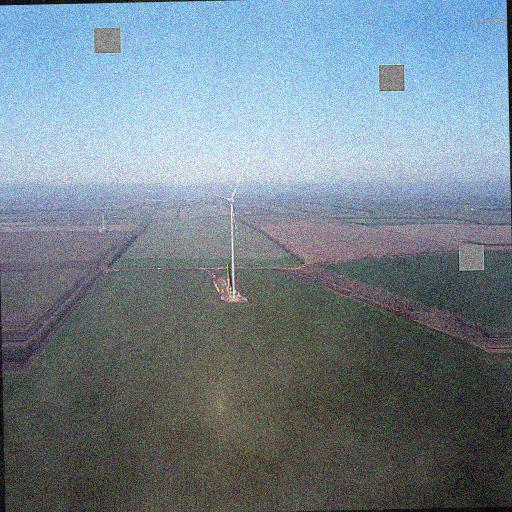wind turbine: (208, 151, 256, 296)
